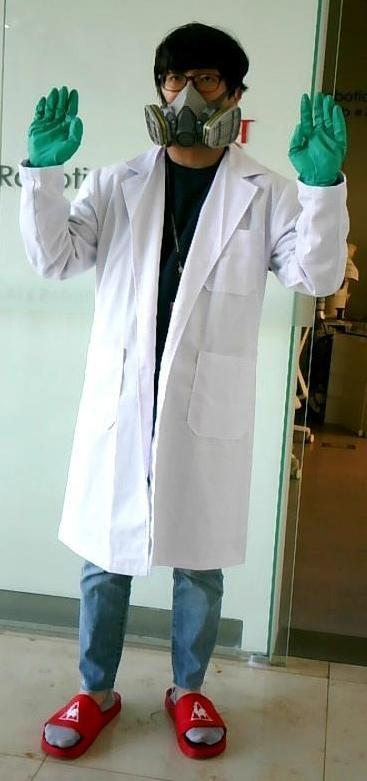lab_coat: (56, 175, 302, 549)
